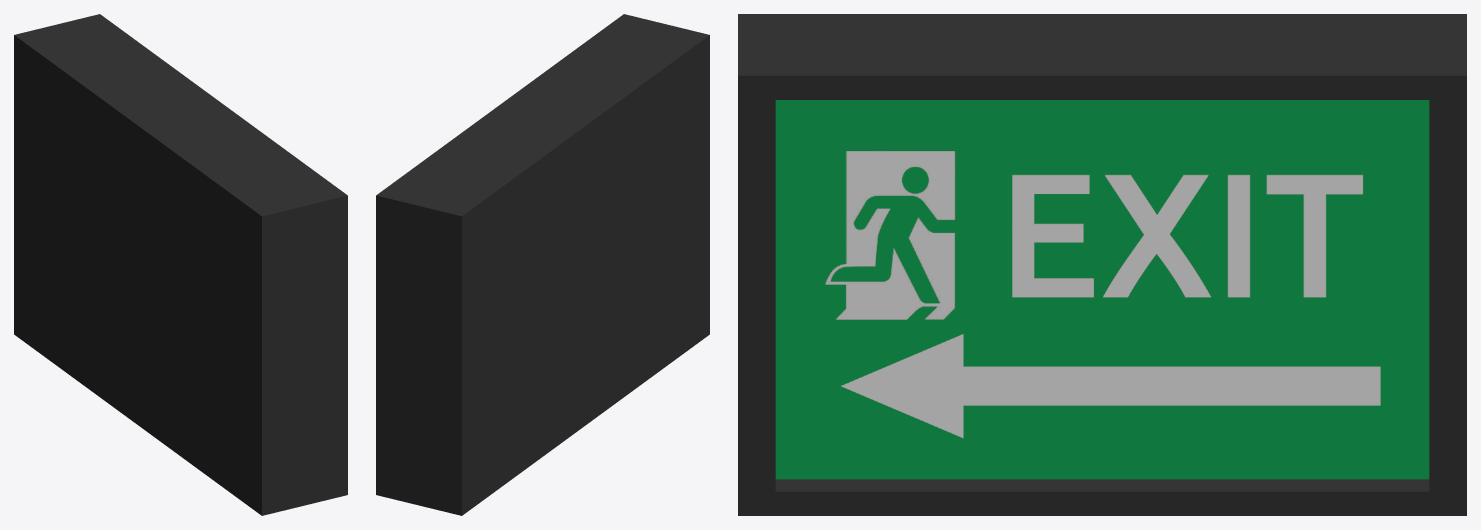
Rendered from exit_left.glb.
3 renders of one model, left to right at view 1: azimuth 30°, elevation 25°; view 2: azimuth 150°, elevation 25°; view 3: azimuth 270°, elevation 25°, orthographic. The views are drawn at different scales.
Visible parts, largest first — view 1: Cube; view 2: Cube; view 3: Cube.
Part boxes in pixels (x1,y1,x2,y2): Cube: (14,14,347,515); Cube: (376,14,709,515); Cube: (738,14,1466,515).
Bounding box in the file's own units: 0.6 × 2 × 3.
Materials: 1 (1 with a texture image).
